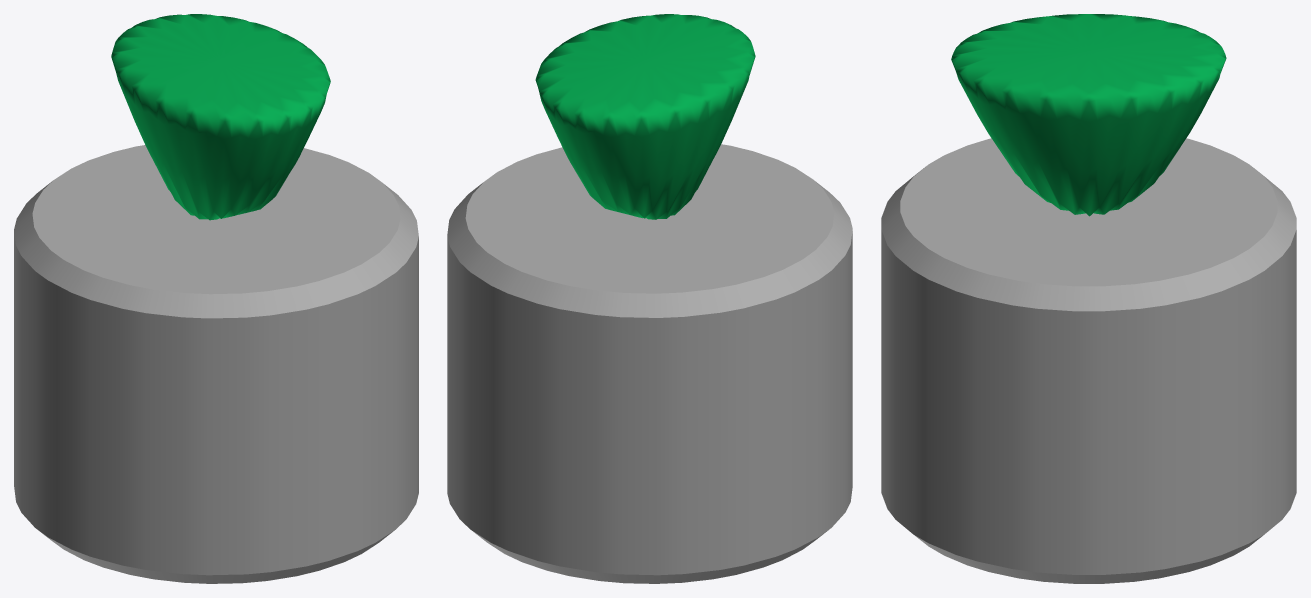
File: PotPlant2.fbx
3 renders of one model, left to right at view 1: azimuth 30°, elevation 25°; view 2: azimuth 150°, elevation 25°; view 3: azimuth 270°, elevation 25°, orthographic. The views are drawn at different scales.
Visible parts, largest first — view 1: Pot1; view 2: Pot1; view 3: Pot1.
Part boxes in pixels (x1,y1,x2,y2): Pot1: (14, 14, 418, 583); Pot1: (447, 14, 852, 583); Pot1: (881, 14, 1296, 583).
Size of the model in its own units: 1.36 by 1.65 by 1.36.
